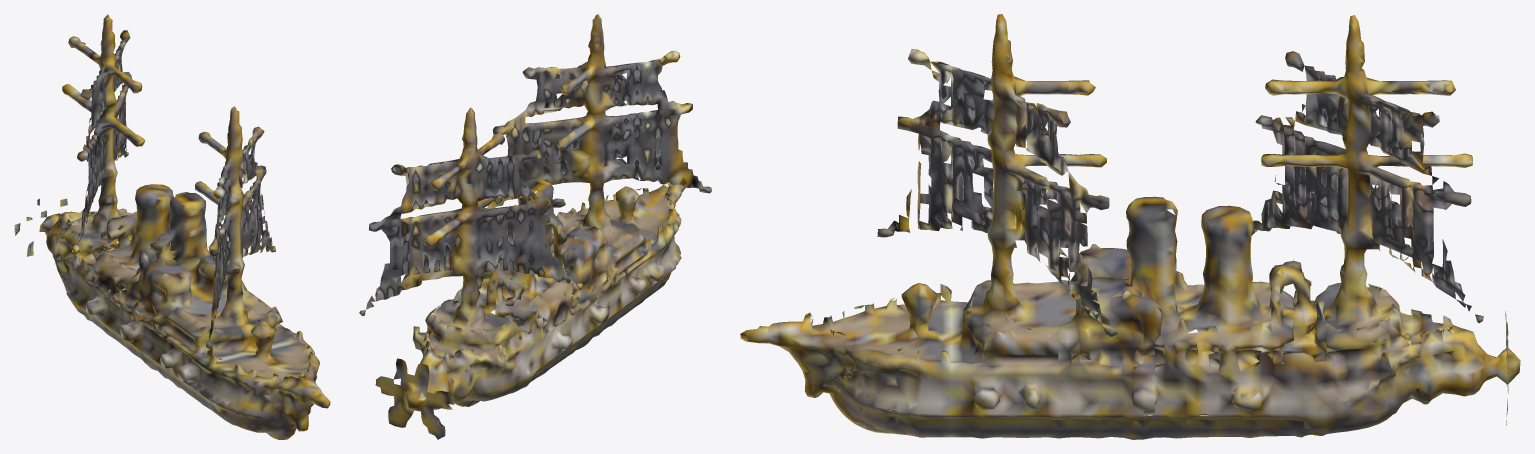
File: mon3d_lo.glb
The picture shows the model from 3 angles, left to right: view 1: azimuth 30°, elevation 25°; view 2: azimuth 150°, elevation 25°; view 3: azimuth 270°, elevation 25°; orthographic projection. The views are drawn at different scales.
Size of the model in its own units: 0.6177 by 1.16 by 1.96.
